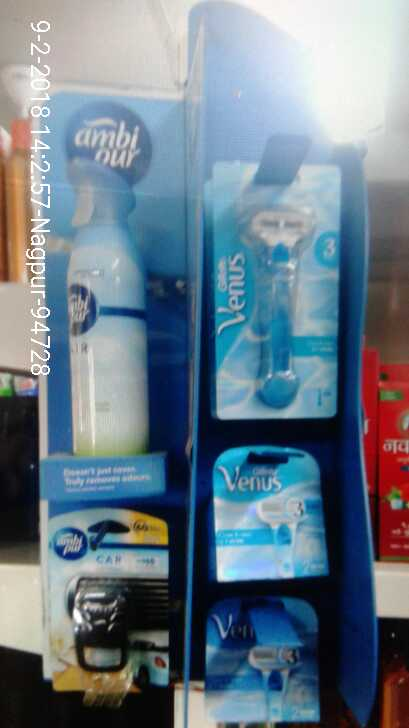beauty: (211, 160, 341, 420), (211, 446, 332, 576), (207, 599, 323, 727)
home: (58, 156, 158, 460), (40, 515, 174, 688)
